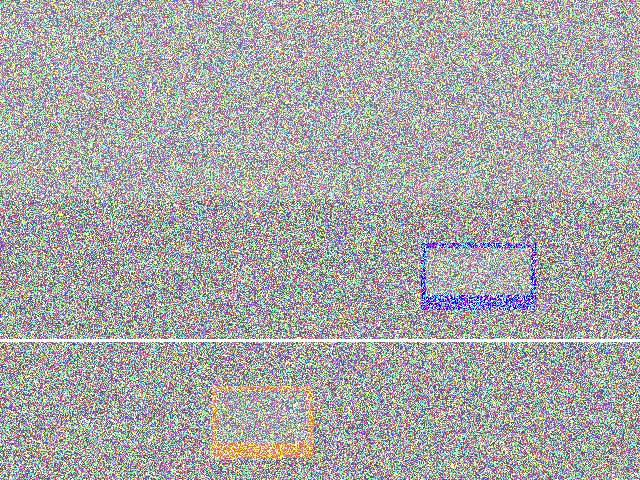motorcycle: (194, 299, 382, 415)
truck: (324, 181, 413, 282)
